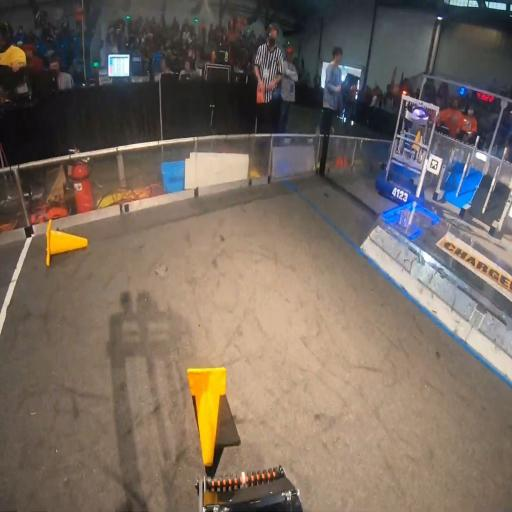robot: (377, 88, 438, 207)
